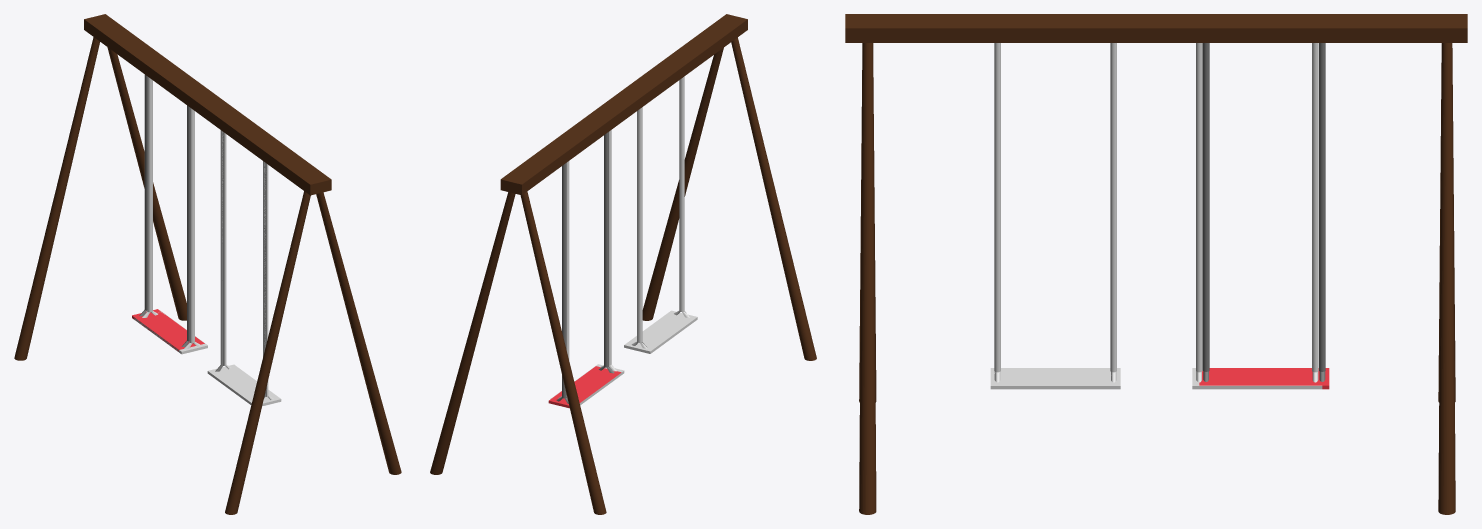
File: Schaukel.fbx
3 renders of one model, left to right at view 1: azimuth 30°, elevation 25°; view 2: azimuth 150°, elevation 25°; view 3: azimuth 270°, elevation 25°, orthographic. The views are drawn at different scales.
Parts seen in each view (by area): view 1: Cube, Cube.001, Cylinder, Cylinder.001, Cube.003, Cylinder.003, Cylinder.002, Cylinder.005, Cylinder.004; view 2: Cube, Cylinder.001, Cylinder, Cube.001, Cylinder.002, Cylinder.003, Cube.003; view 3: Cube, Cube.001, Cylinder, Cylinder.001, Cylinder.002, Cylinder.003, Cube.003.
Part boxes in pixels (x1,y1,x2,y2): Cube: (84,14,331,195); Cube.001: (134,76,281,406); Cylinder: (225,191,401,514); Cylinder.001: (14,37,186,360); Cube.003: (132,309,204,351); Cylinder.003: (139,74,152,316); Cylinder.002: (181,105,194,346); Cylinder.005: (215,131,228,371); Cylinder.004: (264,162,270,399); Cube: (500,14,747,195); Cylinder.001: (430,191,606,514); Cylinder: (642,37,816,360); Cube.001: (551,76,697,405); Cylinder.002: (598,132,614,373); Cylinder.003: (556,163,568,403); Cube.003: (548,366,621,408); Cube: (845,14,1467,42); Cube.001: (990,43,1322,389); Cylinder: (859,43,876,514); Cylinder.001: (1438,43,1455,514); Cylinder.002: (1202,43,1209,381); Cylinder.003: (1319,43,1325,381); Cube.003: (1199,368,1329,389).
Bounding box in the file's own units: 426 × 736 × 955.
